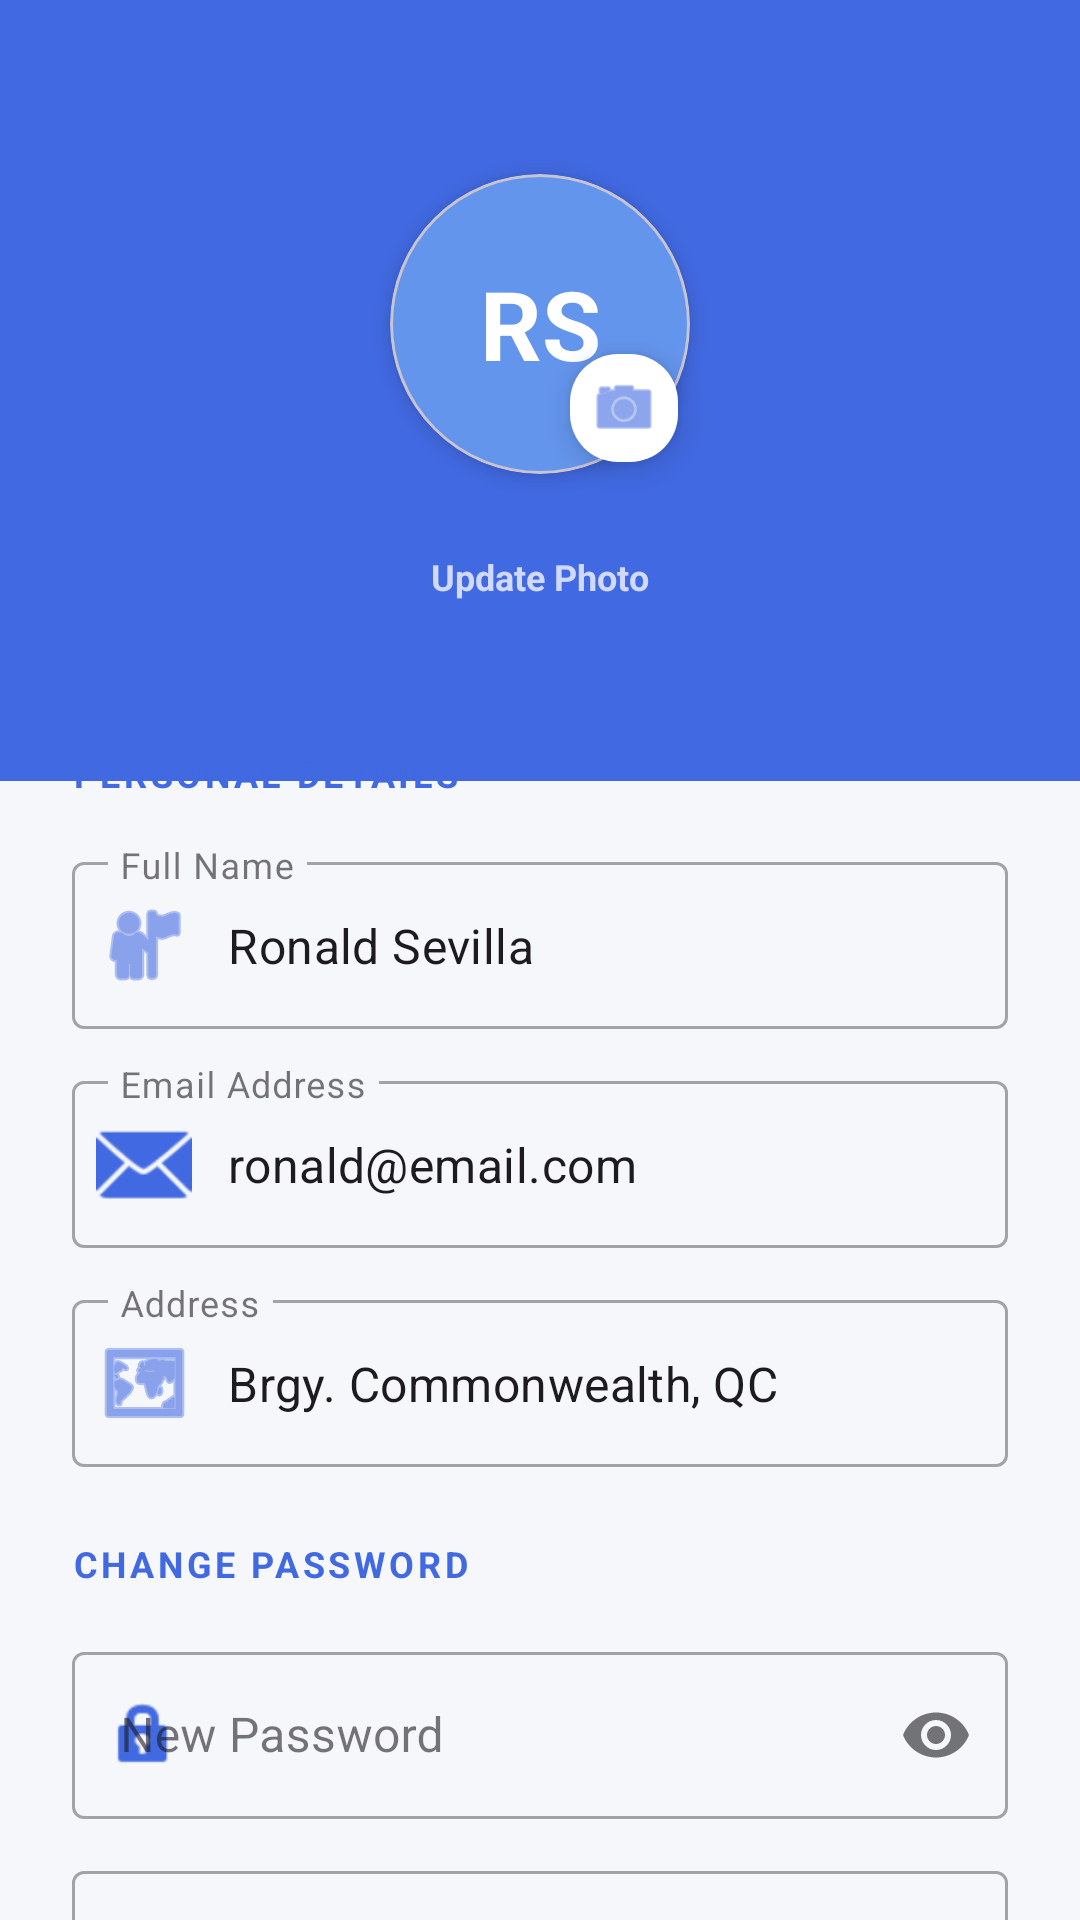

Where to tap for icons on this 1080×1920 app screen, as point (x, y):
camera: point (624, 408)
